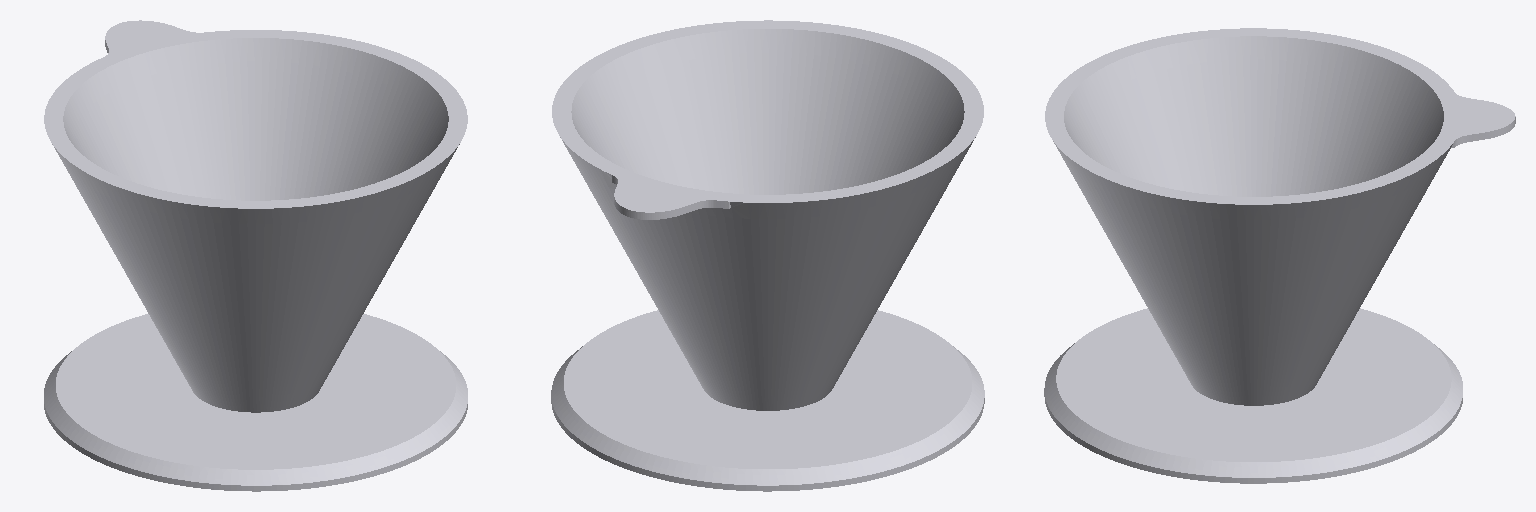
The robot description file, URDF, robot "coffee_dripper":
<?xml version="1.0"?>
<!--
  coffee_dripper.urdf
  드립 커피용 드리퍼(깔때기). 단일 바디(링크 1개).
  - 원본: AJ_드리퍼.step (STEP → STL, cascadio가 mm→m 자동 환산 → scale=1)
  - 시각(visual):  meshes/coffee_dripper.stl
  - 충돌(collision): 바운딩 박스로 단순화 (grill_basket/air_compressor와 동일 방식)
  - 치수 약 0.107 x 0.120 x 0.086 m
  - 메쉬 원점: x는 중심 정렬, 바닥이 z=-0.008 부근
  - 로봇이 집었다 놓는 이동체이므로 스폰 시 fix_base_link=False 로 로드할 것
-->
<robot name="coffee_dripper">

  <material name="dripper_body"> <color rgba="0.85 0.85 0.88 1.0"/> </material>

  <link name="base_link">
    <inertial>
      <origin xyz="0.0000 0.0066 0.0353"/>
      <mass value="0.2"/>
      <inertia ixx="0.000362" ixy="0" ixz="0" iyy="0.000312" iyz="0" izz="0.000429"/>
    </inertial>

    <visual>
      <origin xyz="0 0 0"/>
      <geometry><mesh filename="meshes/coffee_dripper.stl" scale="1 1 1"/></geometry>
      <material name="dripper_body"/>
    </visual>

    <!-- 충돌 박스 = 메쉬 바운딩박스 중심/크기 -->
    <collision>
      <origin xyz="0.0000 0.0066 0.0353"/>
      <geometry><box size="0.1066 0.1198 0.0858"/></geometry>
    </collision>
  </link>
</robot>

--- Render facts (derived) ---
Views: 3 orthographic renders of the robot side by side, from view 1: azimuth 30°, elevation 25°; view 2: azimuth 150°, elevation 25°; view 3: azimuth 270°, elevation 25°.
Model coffee_dripper with 1 links and 0 joints (none), rooted at base_link, posed all joints at 0.
Visible links, largest first — view 1: base_link; view 2: base_link; view 3: base_link.
Boxes of the visible links, bbox=[...] form: base_link: bbox=[44, 20, 467, 491]; base_link: bbox=[551, 20, 984, 491]; base_link: bbox=[1044, 28, 1515, 483].
Size in the robot's own frame: 0.1066 by 0.1198 by 0.0858 metres.
1 mesh visuals loaded from 1 distinct referenced files (1 binary STL).
